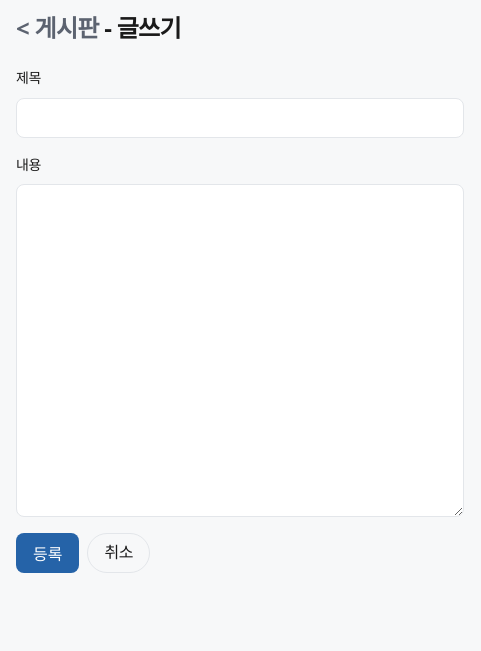
it: 새 글 작성 › 빈 값으로 등록하면 요청을 보내지 않는다
This screenshot has width=481, height=651.
Click the button "등록". click: [48, 553]
box: x1=16 y1=533 x2=80 y2=573
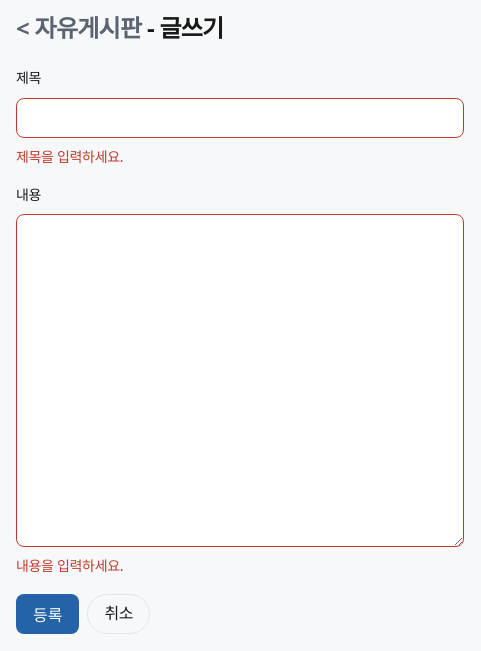
Now the text "제목을 입력하세요." is shown, box x1=16 y1=147 x2=123 y2=166
Now the text "내용을 입력하세요." is shown, box x1=16 y1=556 x2=123 y2=576
